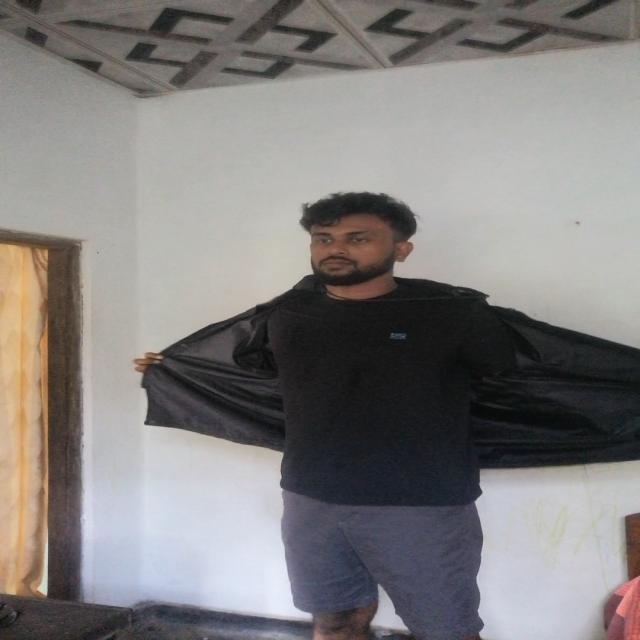Jacket_Wearer: (136, 266, 640, 513)
Person: (221, 177, 538, 636)
